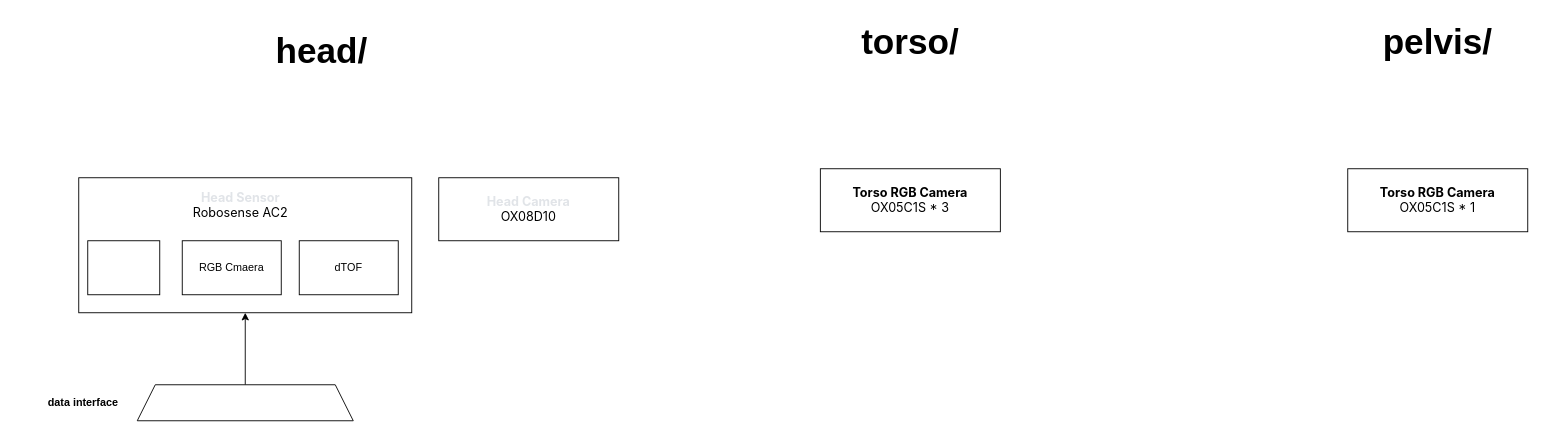
Image size: 1552x437. Some labels were removed from this diagram. Each missing label, with the box of its shape:
GMSL2: (136, 384, 353, 421)
IMU: (87, 240, 160, 295)
